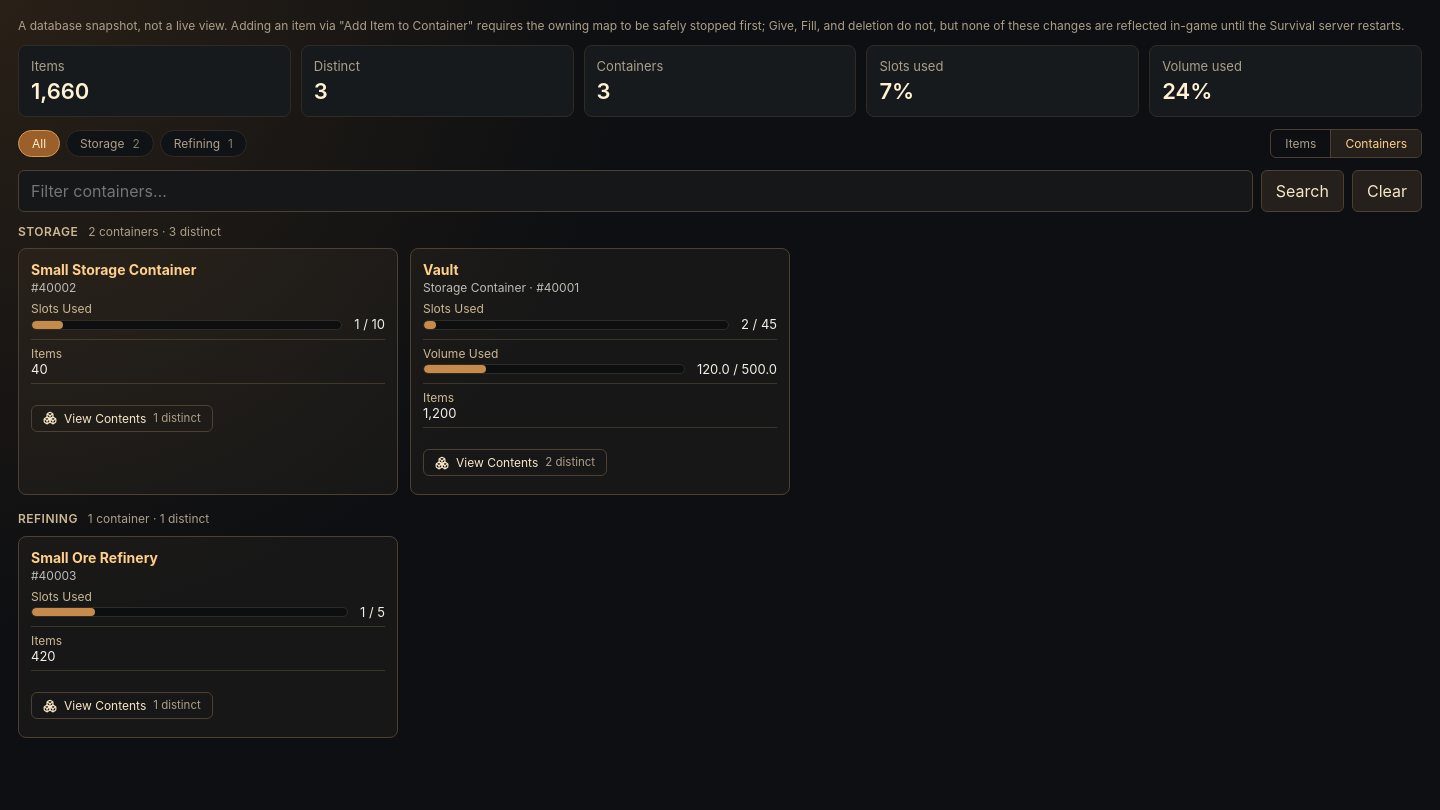
it: BaseInventoryTab › expands an item to show which containers hold it
expect the text "Distinct" is shown: met, box top-left (314, 58), bottom-right (360, 74)
Click the button "Items". click: [1301, 144]
box: top-left (1271, 130), bottom-right (1330, 157)
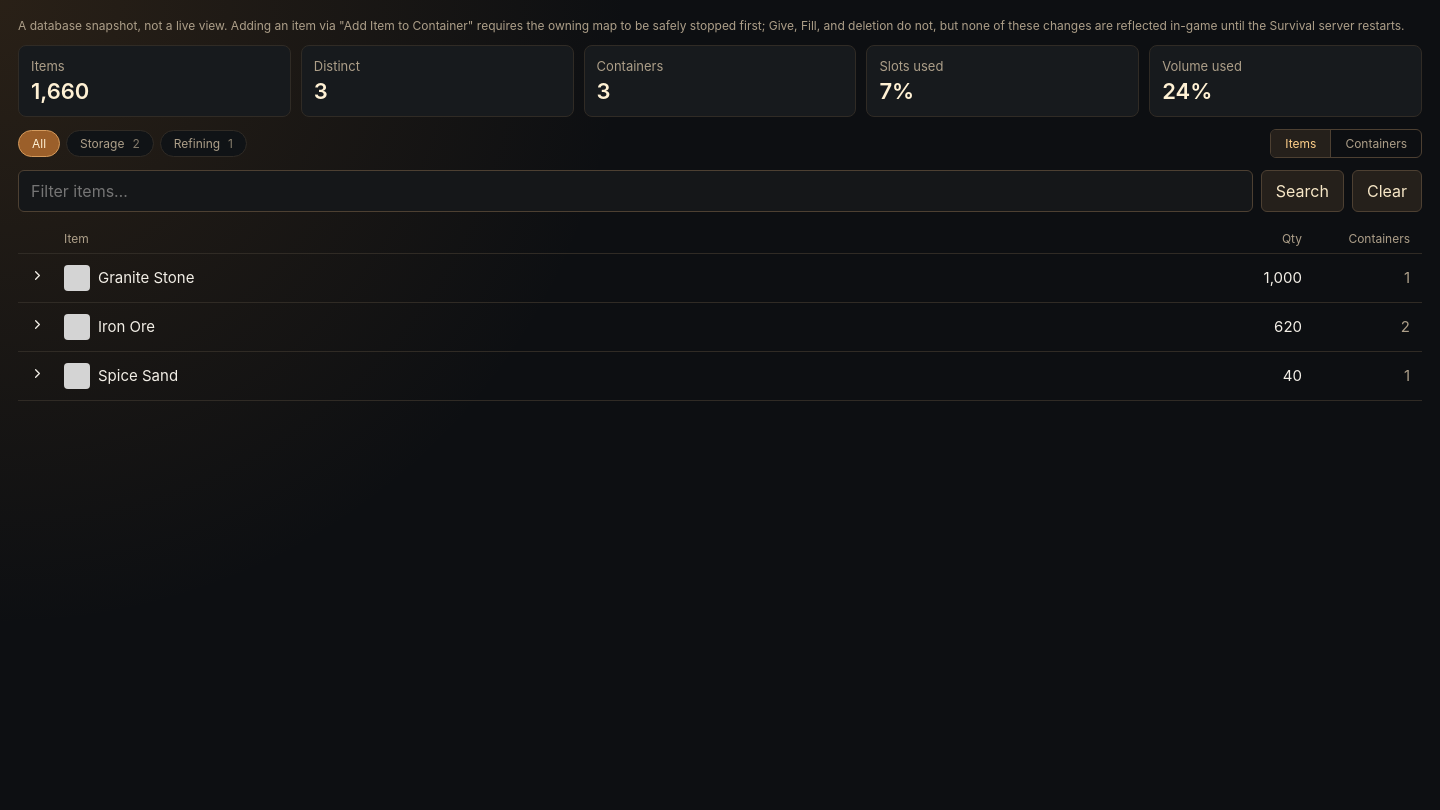
Click the button with class "bases-inventory-item-row" showing "Iron Ore 620 2". click: [127, 326]
box: top-left (18, 303), bottom-right (1422, 352)
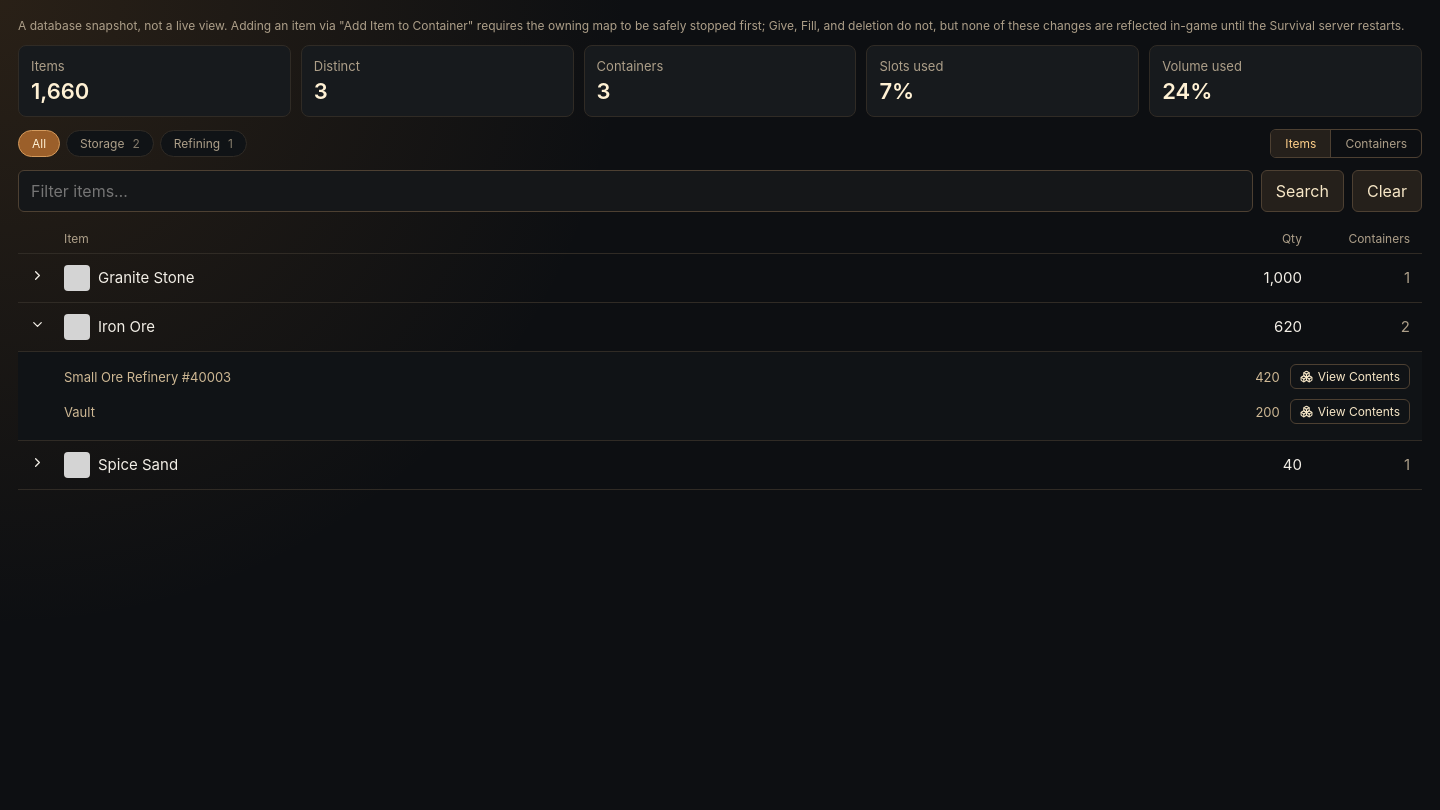
expect the element with class "bases-inventory-breakdown" shows "Small Ore Refinery #40003": met, box top-left (64, 368), bottom-right (231, 384)
expect the element with class "bases-inventory-breakdown" shows "Vault": met, box top-left (64, 404), bottom-right (95, 420)
expect the element with class "bases-inventory-breakdown" shows "420": met, box top-left (1255, 368), bottom-right (1280, 384)
